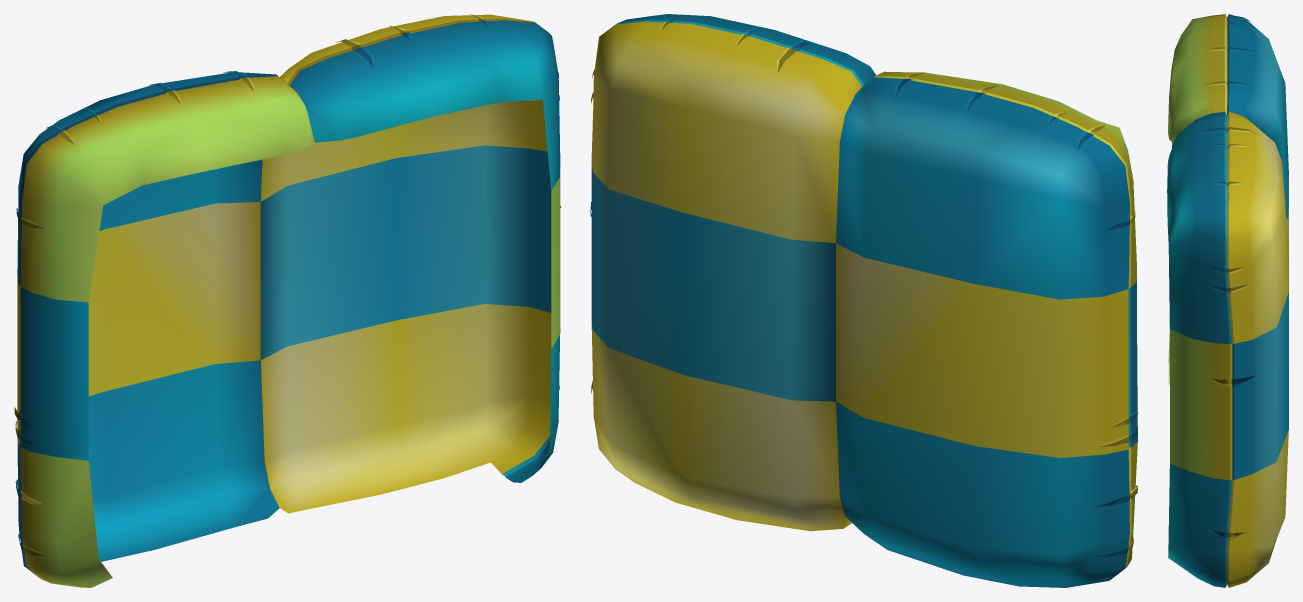
Rendered from Blob.fbx.
3 renders of one model, left to right at view 1: azimuth 30°, elevation 25°; view 2: azimuth 150°, elevation 25°; view 3: azimuth 270°, elevation 25°, orthographic. The views are drawn at different scales.
Visible parts, largest first — view 1: Blob; view 2: Blob; view 3: Blob.
Part boxes in pixels (x1,y1,x2,y2): Blob: (14,14,561,587); Blob: (590,14,1138,587); Blob: (1167,14,1288,587).
Size of the model in its own units: 507 by 427 by 117.
